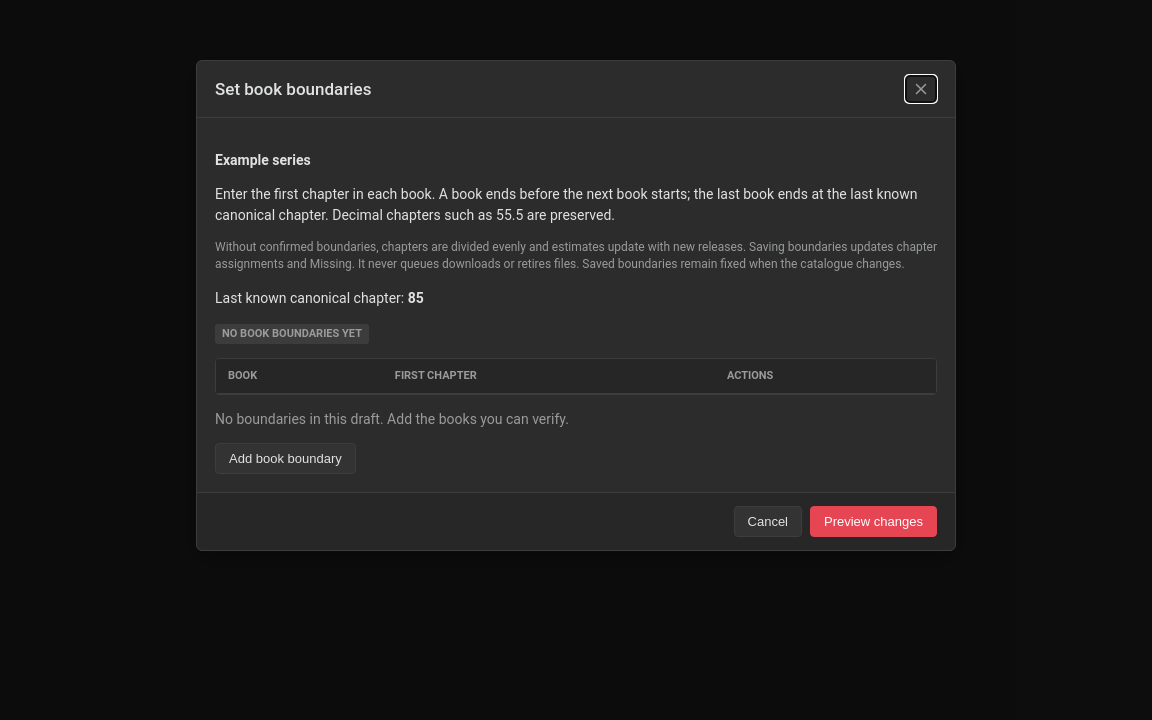
Test: initial boundary draft › starts empty without saved boundaries or hints and supports adding and removing rows
Check: the text "No book boundaries yet" is shown, box [215,324,369,344]
Click the button "Add book boundary" at [285, 459], box [215,443,356,474]
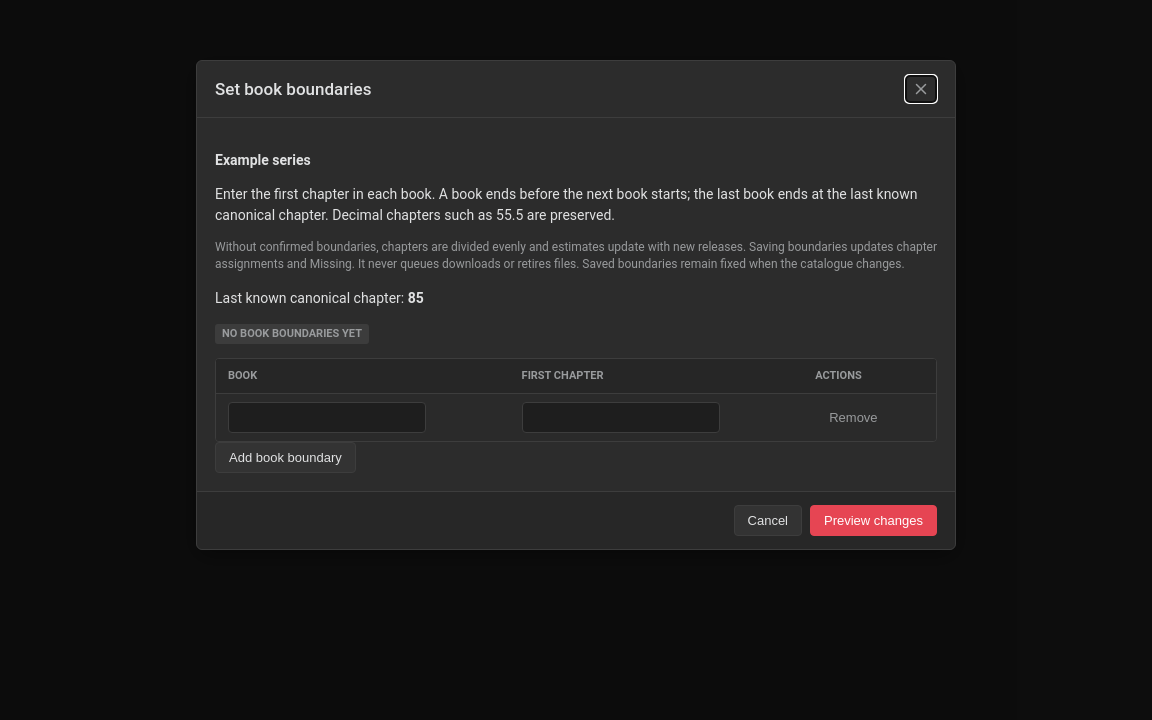
Check: the number of fields is 2, box [228,402,426,433]; [522,402,720,433]
Click the button with aria-label "Remove boundary row 1" at [853, 417], box [815,402,892,433]
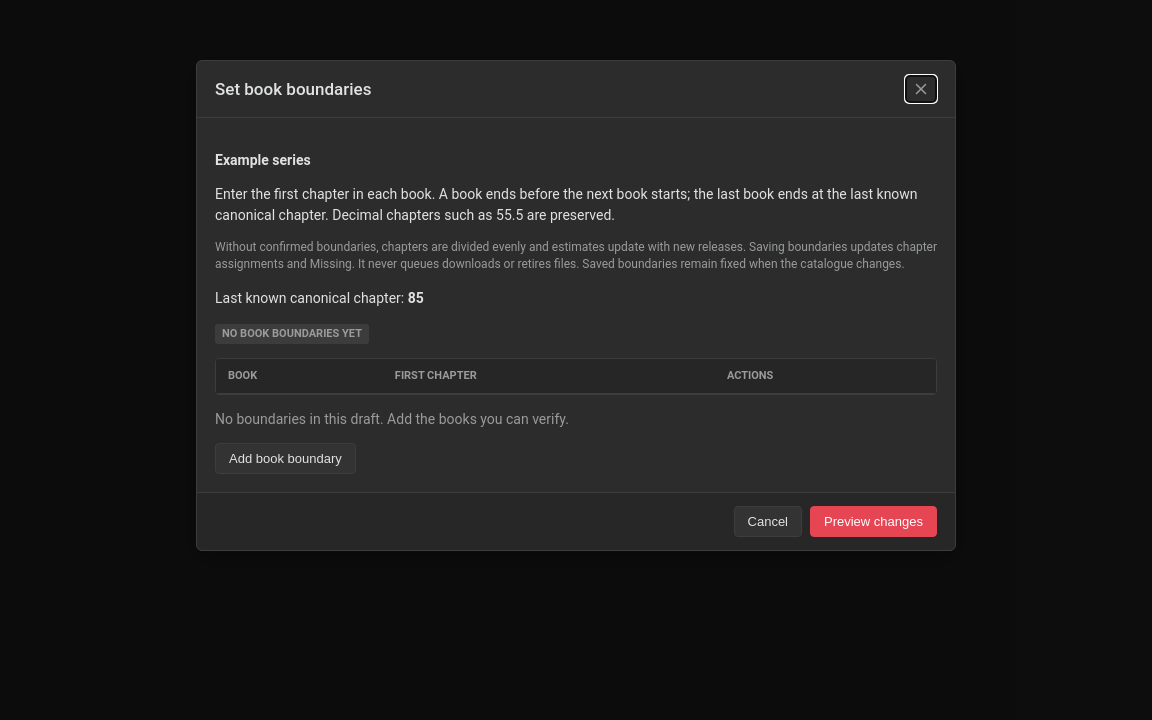
Click the button "Preview changes" at [874, 522], box [810,506,937,537]
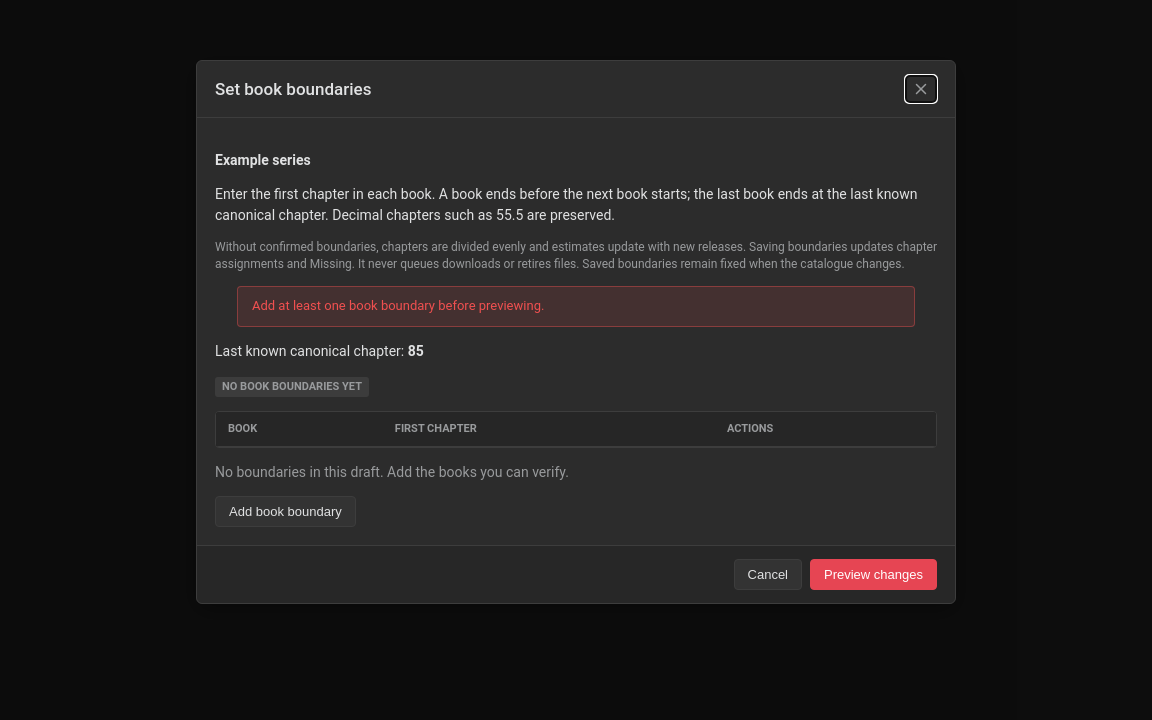
Check: the message "Add at least one book boundary before previewing." is shown, box [237,286,915,326]
